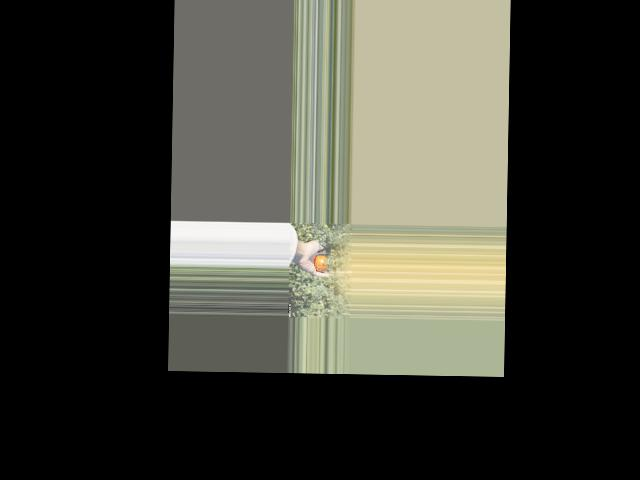tomato: (314, 255, 329, 272)
